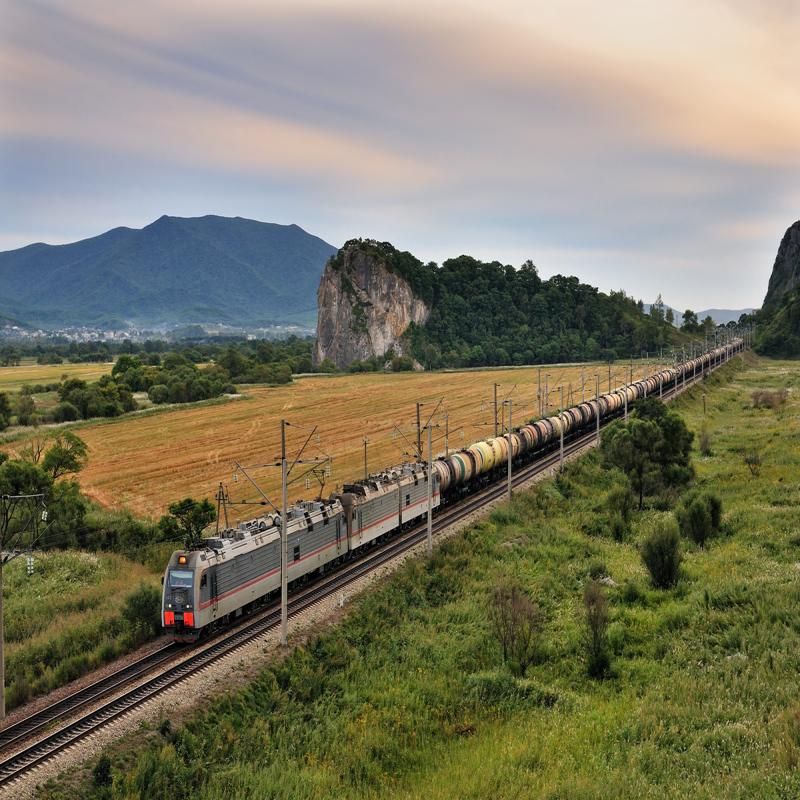train: (161, 486, 351, 650), (336, 454, 447, 554), (441, 421, 516, 504), (516, 397, 579, 471)
